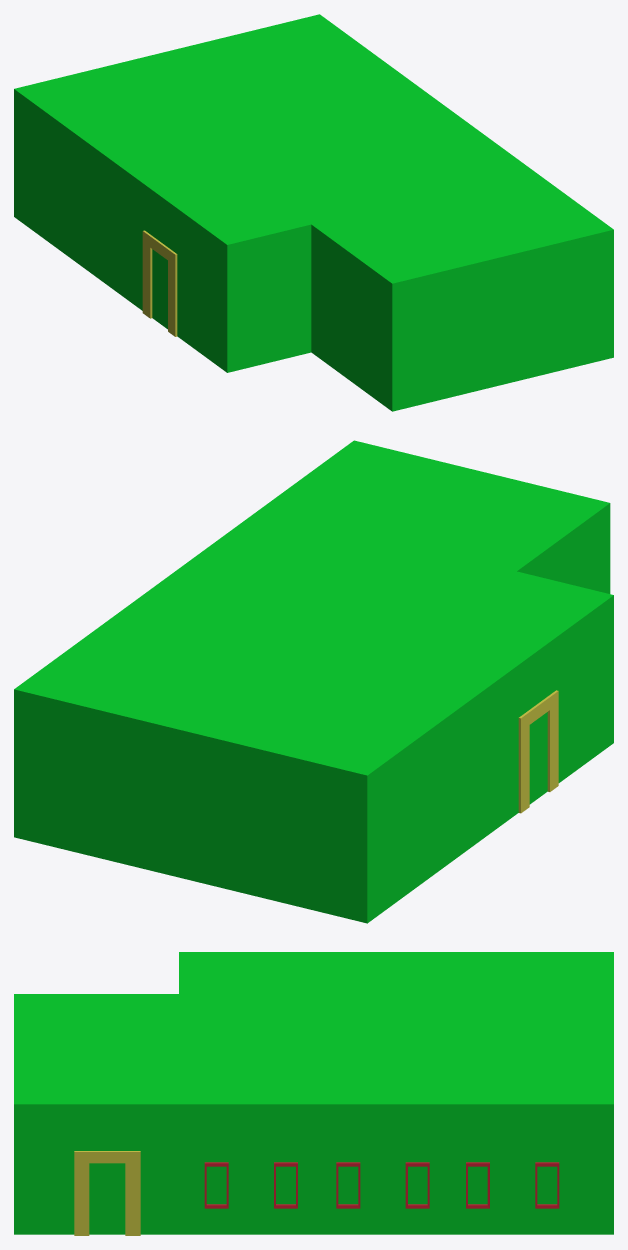
The picture shows the model from 3 angles, top to bottom: view 1: azimuth 30°, elevation 25°; view 2: azimuth 150°, elevation 25°; view 3: azimuth 270°, elevation 25°; orthographic projection. The views are drawn at different scales.
Visible parts, largest first — view 1: Starting Pub, Back Door Frame; view 2: Starting Pub, Back Door Frame; view 3: Starting Pub, Front Door Frame, Window.006, Window.003, Window.002, Window, Window.007.
Boxes of the visible parts, <box> form: Starting Pub: <box>14,14,613,411</box>; Back Door Frame: <box>142,230,177,336</box>; Starting Pub: <box>14,440,613,923</box>; Back Door Frame: <box>518,690,558,813</box>; Starting Pub: <box>14,952,613,1234</box>; Front Door Frame: <box>74,1151,140,1235</box>; Window.006: <box>535,1162,559,1208</box>; Window.003: <box>336,1162,360,1208</box>; Window.002: <box>405,1162,429,1208</box>; Window: <box>204,1162,228,1208</box>; Window.007: <box>466,1162,489,1208</box>.
Size of the model in its own units: 927 by 366 by 1524.
